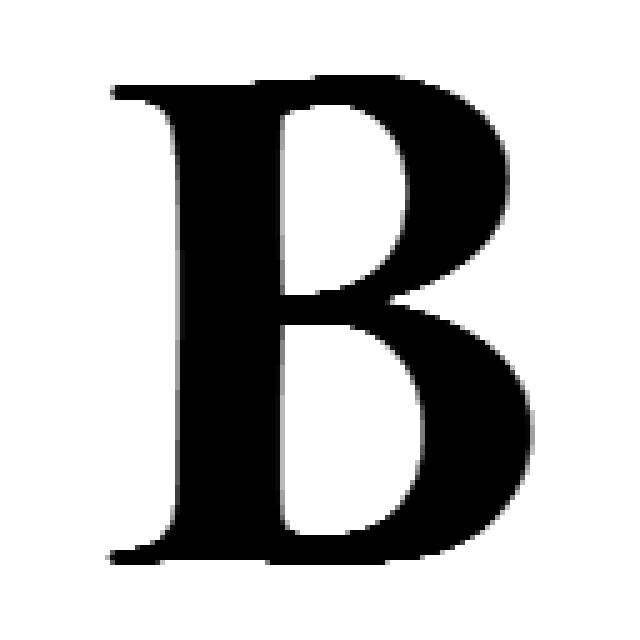B: (110, 75, 535, 570)
